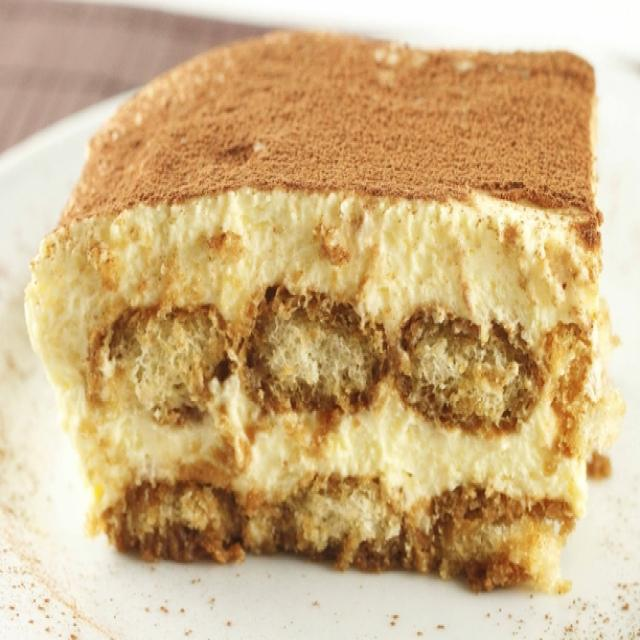蛋糕甜品: (9, 17, 630, 621)
